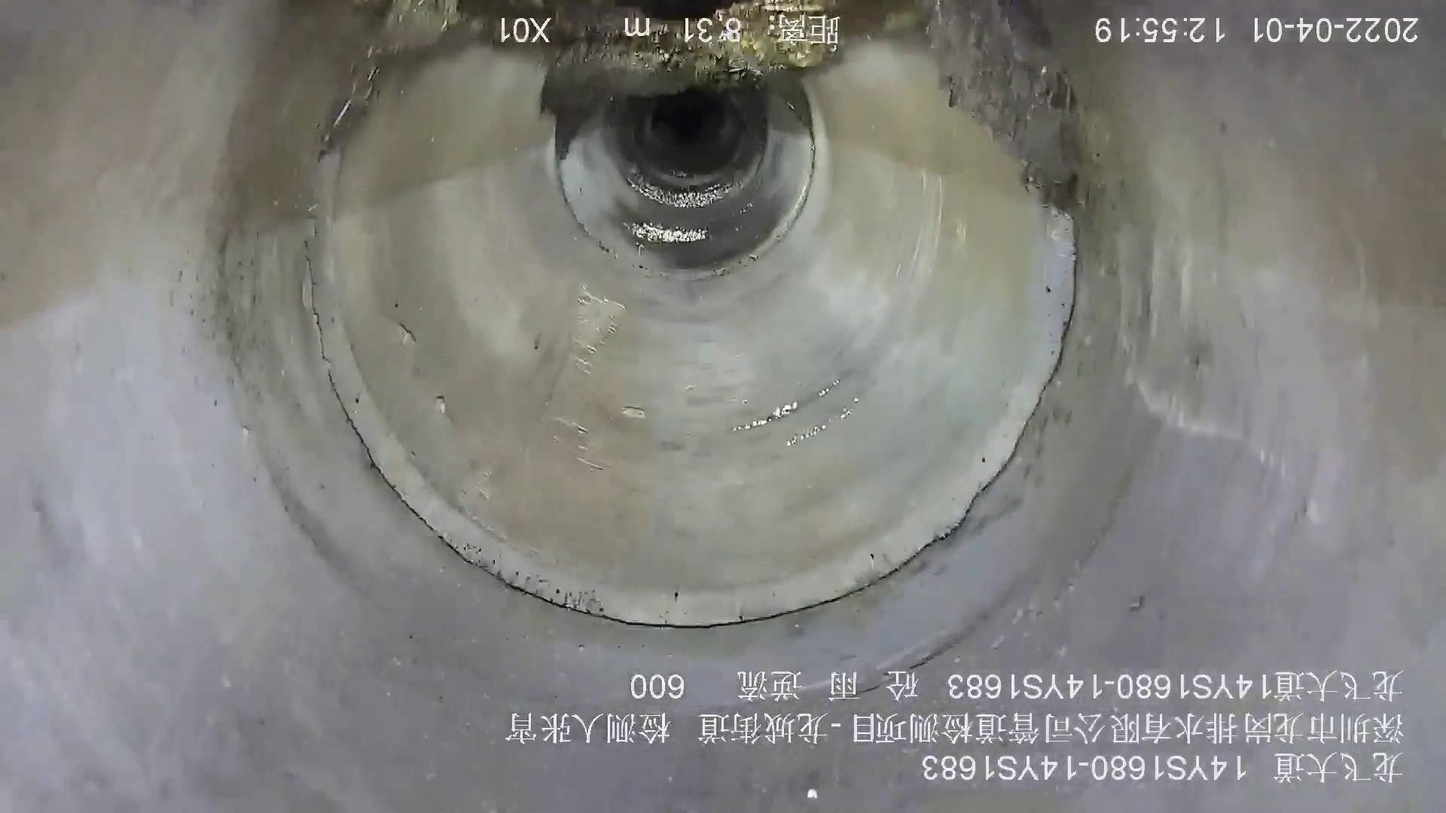CJ: (916, 1, 1084, 212), (545, 1, 839, 114), (319, 1, 487, 162)
CKTJ: (303, 152, 1074, 627)
